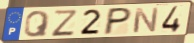2: (79, 8, 104, 36)
4: (160, 5, 182, 34)
N: (132, 7, 160, 34)
P: (102, 7, 134, 36)
Q: (23, 10, 51, 38)
Z: (50, 9, 78, 38)
